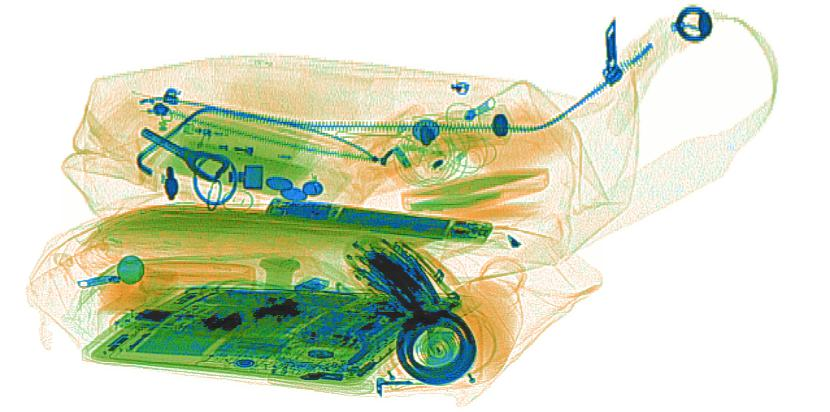lighter: (176, 120, 307, 168)
seal: (246, 257, 302, 332)
